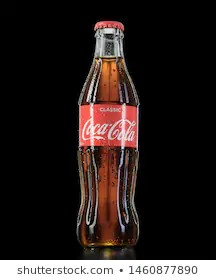coke-glass-bottle: (74, 10, 143, 252)
